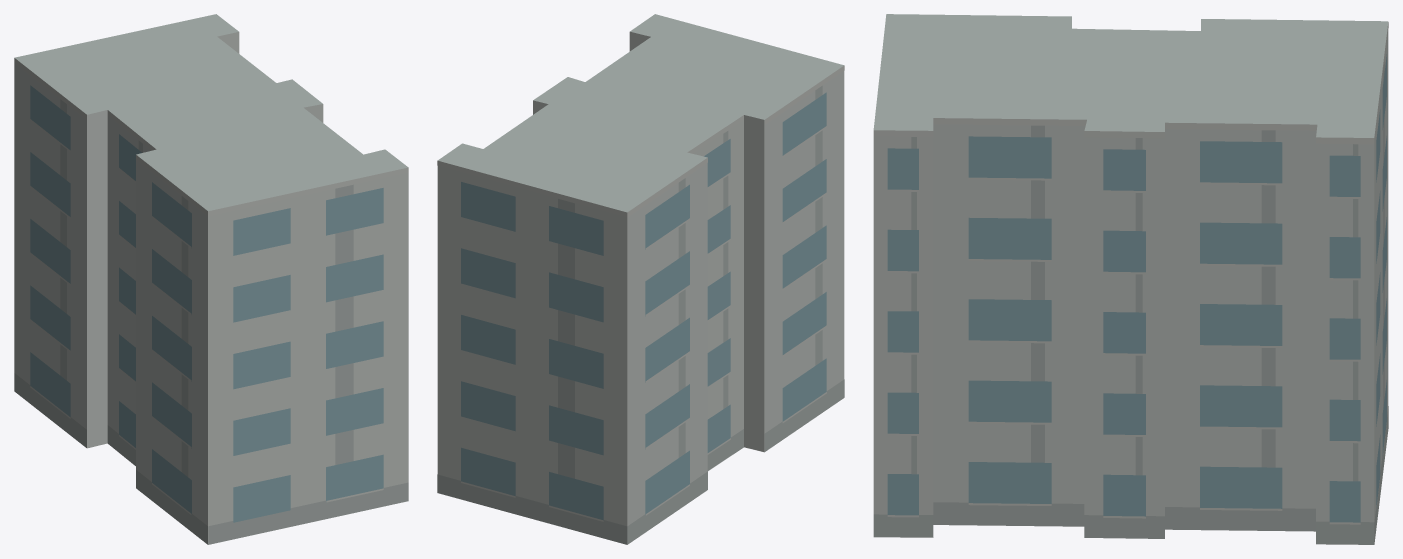
Rendered from survey-upis-33036119.glb.
3 views of the same model, side by side, from view 1: azimuth 30°, elevation 25°; view 2: azimuth 150°, elevation 25°; view 3: azimuth 270°, elevation 25° (orthographic). The views are drawn at different scales.
Visible parts, largest first — view 1: survey-upis-33036119.tmp; view 2: survey-upis-33036119.tmp; view 3: survey-upis-33036119.tmp.
Part boxes in pixels (bbox=[...]): survey-upis-33036119.tmp: bbox=[14, 14, 408, 544]; survey-upis-33036119.tmp: bbox=[437, 14, 844, 544]; survey-upis-33036119.tmp: bbox=[873, 14, 1388, 544].
Size of the model in its own units: 10.21 by 15.6 by 17.9.
